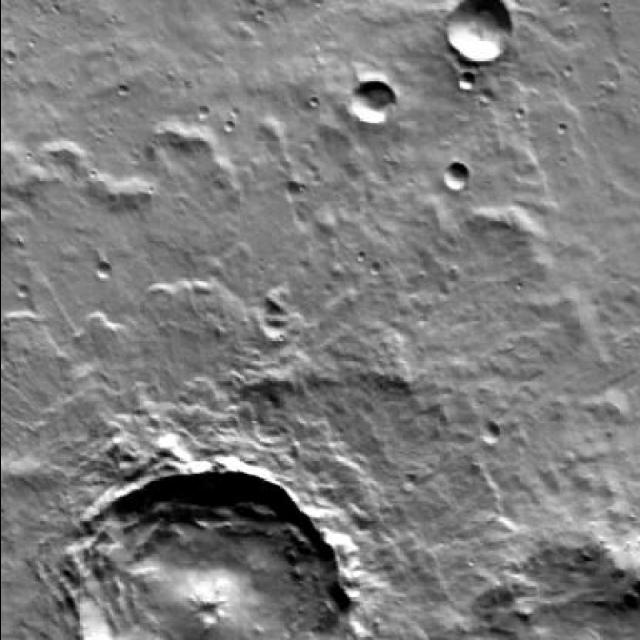crater: (64, 471, 347, 640), (448, 0, 512, 68), (352, 82, 396, 130), (442, 162, 468, 192), (478, 426, 498, 448), (94, 260, 110, 278), (456, 75, 472, 92)
